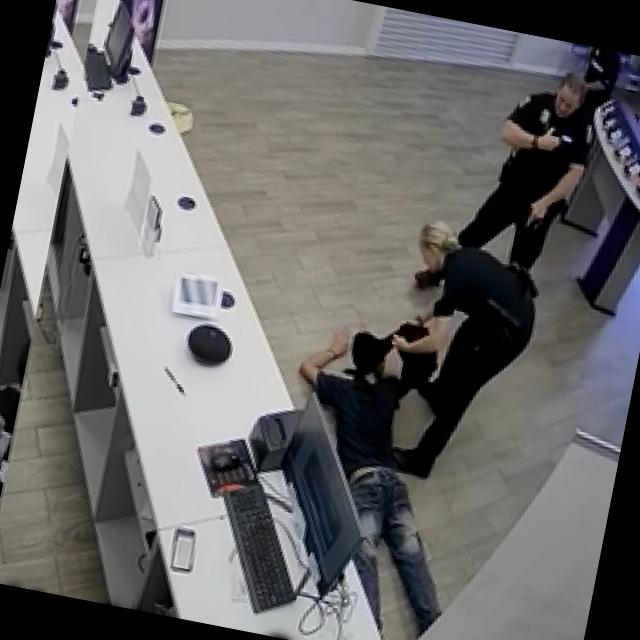person: (248, 310, 498, 640), (363, 215, 549, 492), (426, 49, 607, 301)
